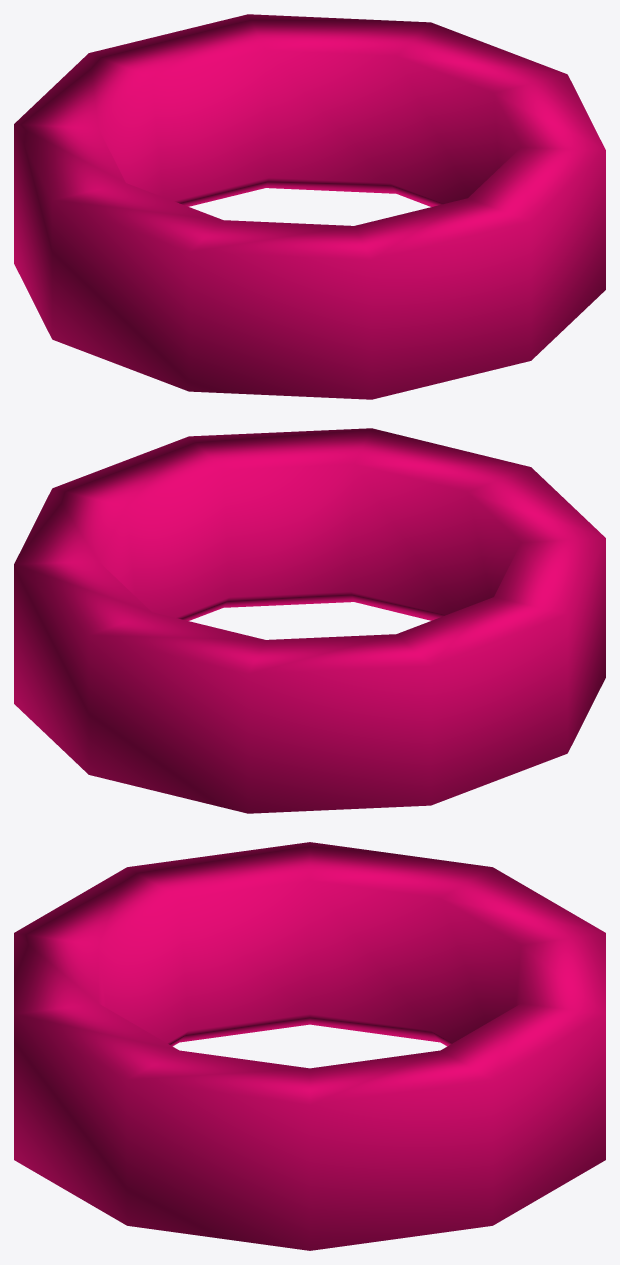
The model's file is Tire_01_Lod1.fbx.
The picture shows the model from 3 angles, top to bottom: view 1: azimuth 30°, elevation 25°; view 2: azimuth 150°, elevation 25°; view 3: azimuth 270°, elevation 25°; orthographic projection. The views are drawn at different scales.
Visible parts, largest first — view 1: Tire_01_Lod1; view 2: Tire_01_Lod1; view 3: Tire_01_Lod1.
Part boxes in pixels (x1,y1,x2,y2): Tire_01_Lod1: (14, 14, 605, 399); Tire_01_Lod1: (14, 428, 605, 813); Tire_01_Lod1: (14, 842, 605, 1250).
Size of the model in its own units: 81.21 by 20.99 by 77.24.
